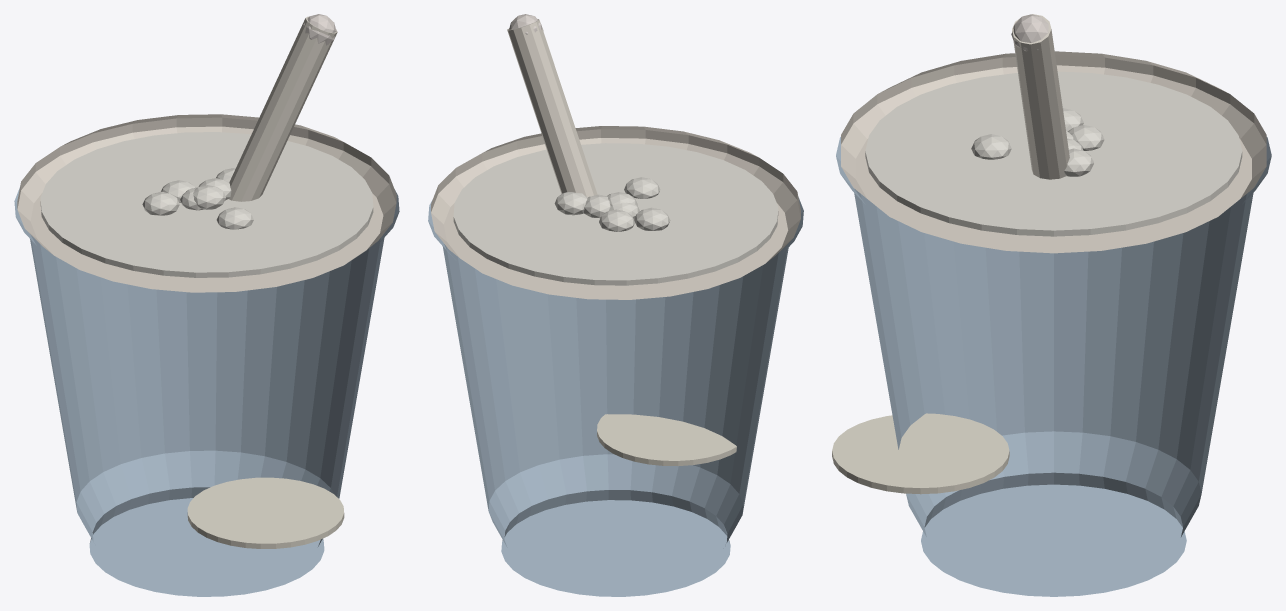
File: sua_tuoi.glb
The picture shows the model from 3 angles, left to right: view 1: azimuth 30°, elevation 25°; view 2: azimuth 150°, elevation 25°; view 3: azimuth 270°, elevation 25°; orthographic projection. The views are drawn at different scales.
Visible parts, largest first — view 1: obj_0000, obj_0001, obj_0002, obj_0003, obj_0004, obj_0011, obj_0007, obj_0009, obj_0005; view 2: obj_0000, obj_0001, obj_0002, obj_0004, obj_0003, obj_0011, obj_0012, obj_0006, obj_0007, obj_0010; view 3: obj_0000, obj_0001, obj_0002, obj_0003, obj_0004, obj_0005, obj_0007, obj_0012, obj_0006.
Part boxes in pixels (box(x1,y1,x2,y2)): obj_0000: box(14, 187, 399, 596); obj_0001: box(40, 132, 373, 277); obj_0002: box(17, 114, 396, 292); obj_0003: box(187, 477, 344, 548); obj_0004: box(229, 16, 337, 201); obj_0011: box(142, 191, 179, 215); obj_0007: box(216, 207, 253, 229); obj_0009: box(193, 185, 225, 209); obj_0005: box(302, 14, 336, 45); obj_0000: box(428, 197, 803, 596); obj_0001: box(453, 143, 778, 285); obj_0002: box(431, 126, 800, 299); obj_0004: box(507, 19, 597, 197); obj_0003: box(597, 414, 736, 466); obj_0011: box(634, 207, 670, 230); obj_0012: box(599, 209, 634, 231); obj_0006: box(554, 192, 587, 215); obj_0007: box(624, 177, 660, 198); obj_0010: box(583, 194, 610, 218); obj_0000: box(836, 137, 1271, 596); obj_0001: box(865, 71, 1242, 236); obj_0002: box(841, 51, 1266, 253); obj_0003: box(832, 413, 1009, 494); obj_0004: box(1012, 14, 1069, 179); obj_0005: box(1011, 14, 1048, 51); obj_0007: box(971, 134, 1011, 159); obj_0012: box(1068, 125, 1104, 150); obj_0006: box(1064, 148, 1093, 176).
Size of the model in its own units: 1.18 by 1.73 by 1.19.
